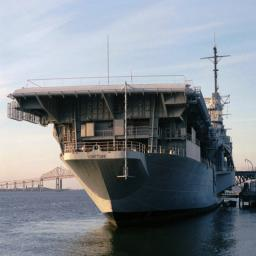Portanaves: (6, 33, 243, 231)
